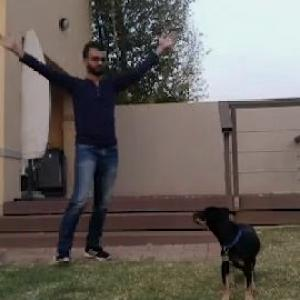takeoff: (1, 35, 180, 276)
